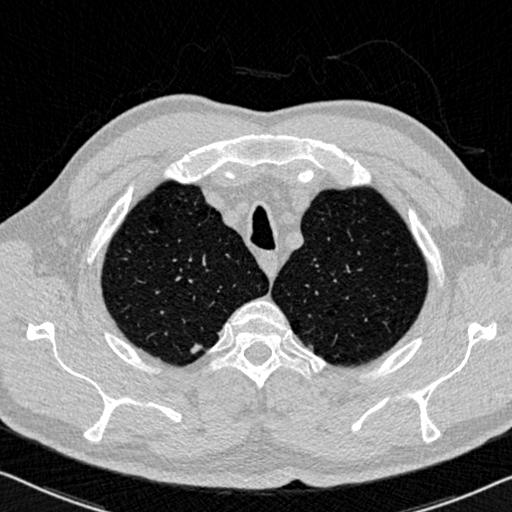nodule: (189, 342, 203, 356)
